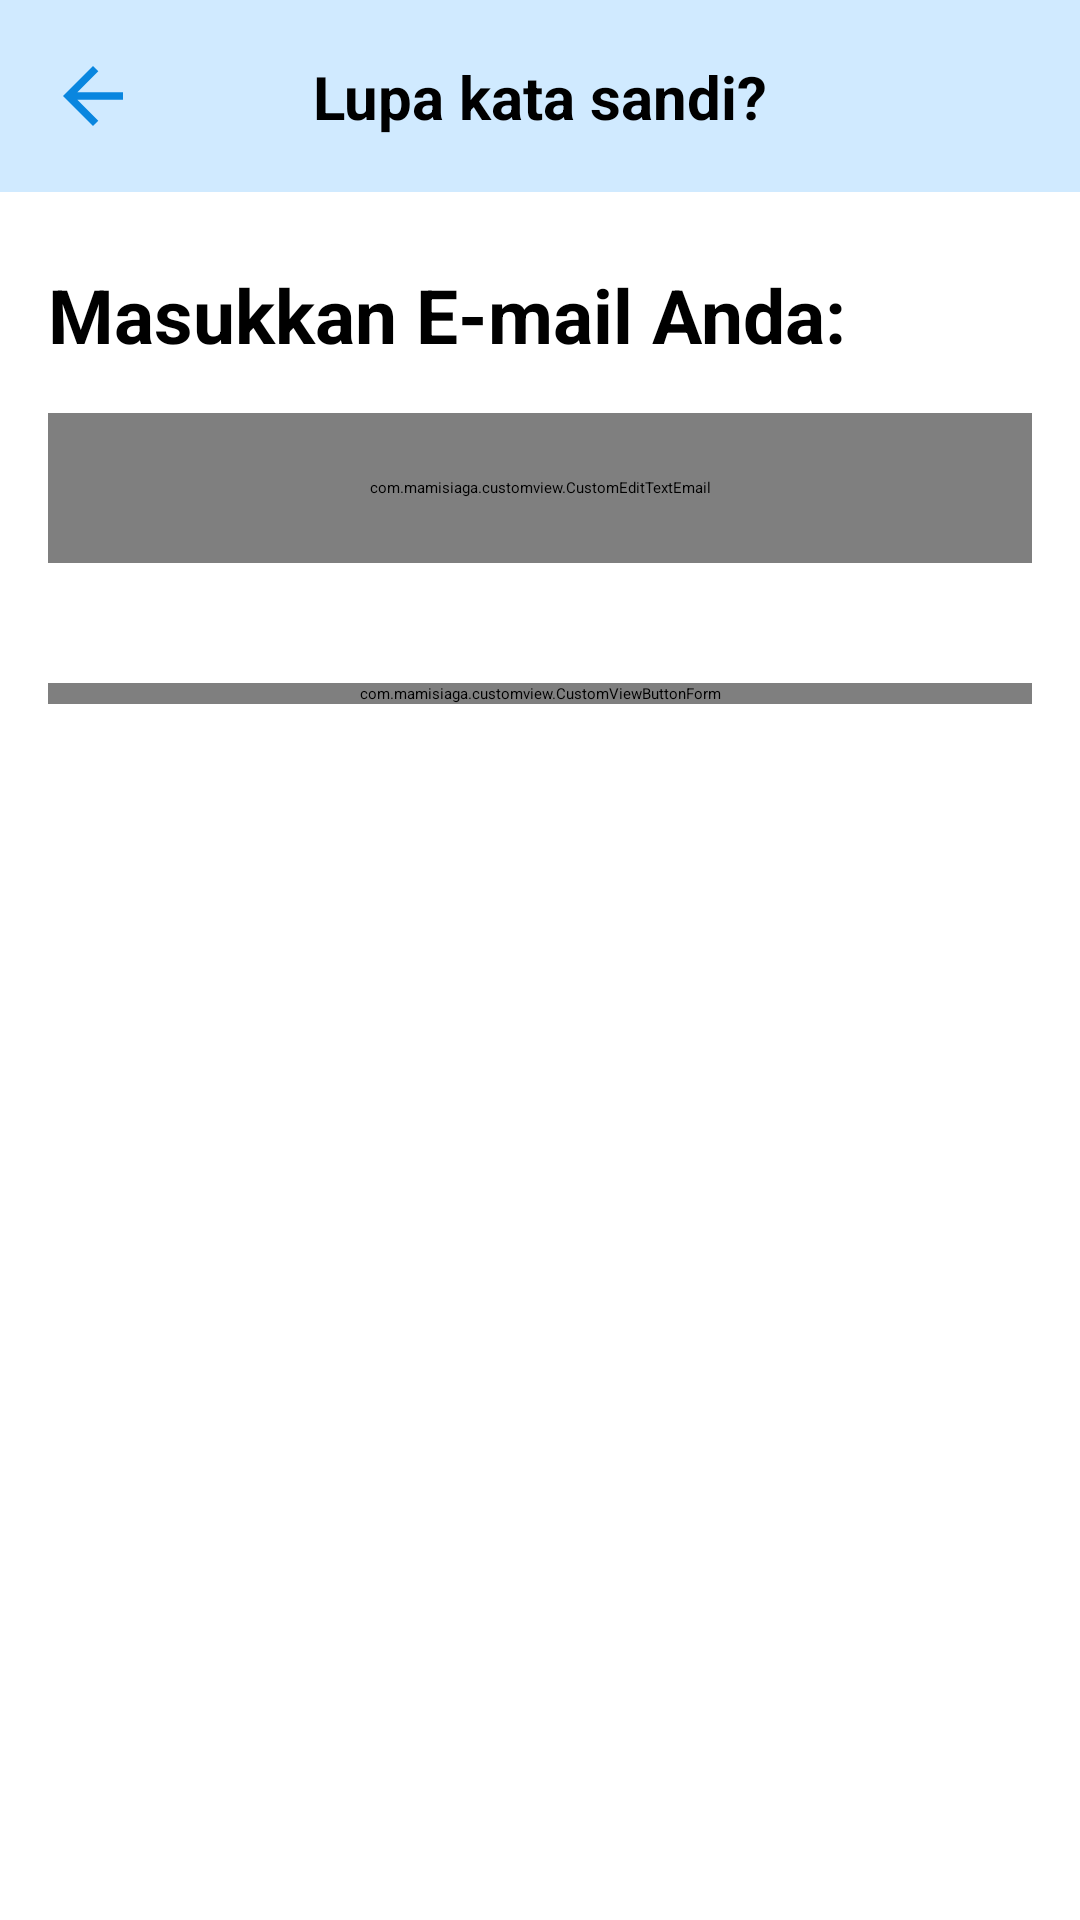

Named icons in this screenshot (1080x1920) and their centers, (x=x, y=y):
arrow back: (x=93, y=96)
